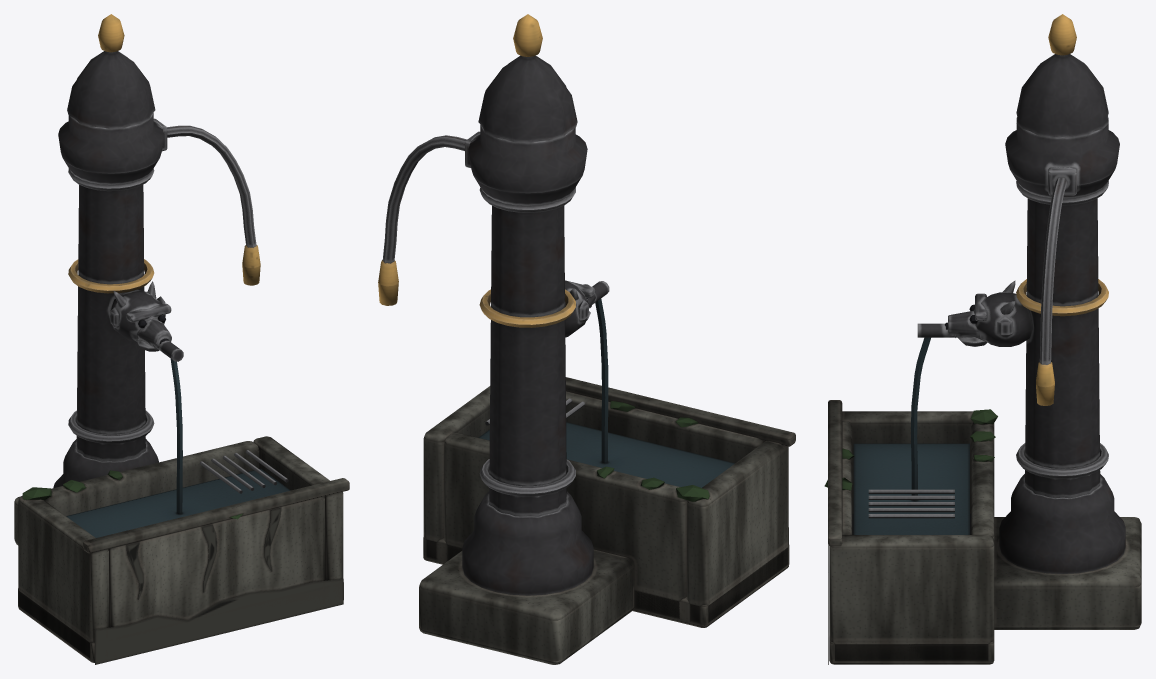
Rendered from StreetPump.fbx.
3 views of the same model, side by side, from view 1: azimuth 30°, elevation 25°; view 2: azimuth 150°, elevation 25°; view 3: azimuth 270°, elevation 25° (orthographic). The views are drawn at different scales.
Visible parts, largest first — view 1: StreetPump_Main, StreetPump_Pool; view 2: StreetPump_Main, StreetPump_Pool; view 3: StreetPump_Main, StreetPump_Pool.
Part boxes in pixels (x1,y1,x2,y2): StreetPump_Main: (14,14,349,664); StreetPump_Pool: (66,359,290,537); StreetPump_Main: (378,14,795,664); StreetPump_Pool: (478,298,734,487); StreetPump_Main: (824,14,1141,664); StreetPump_Pool: (853,337,969,534).
Size of the model in its own units: 236 by 450 by 221.
